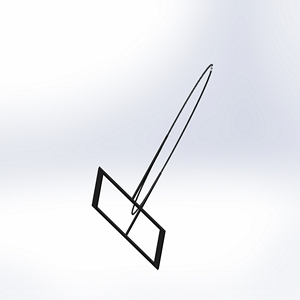circle: (90, 59, 217, 270)
